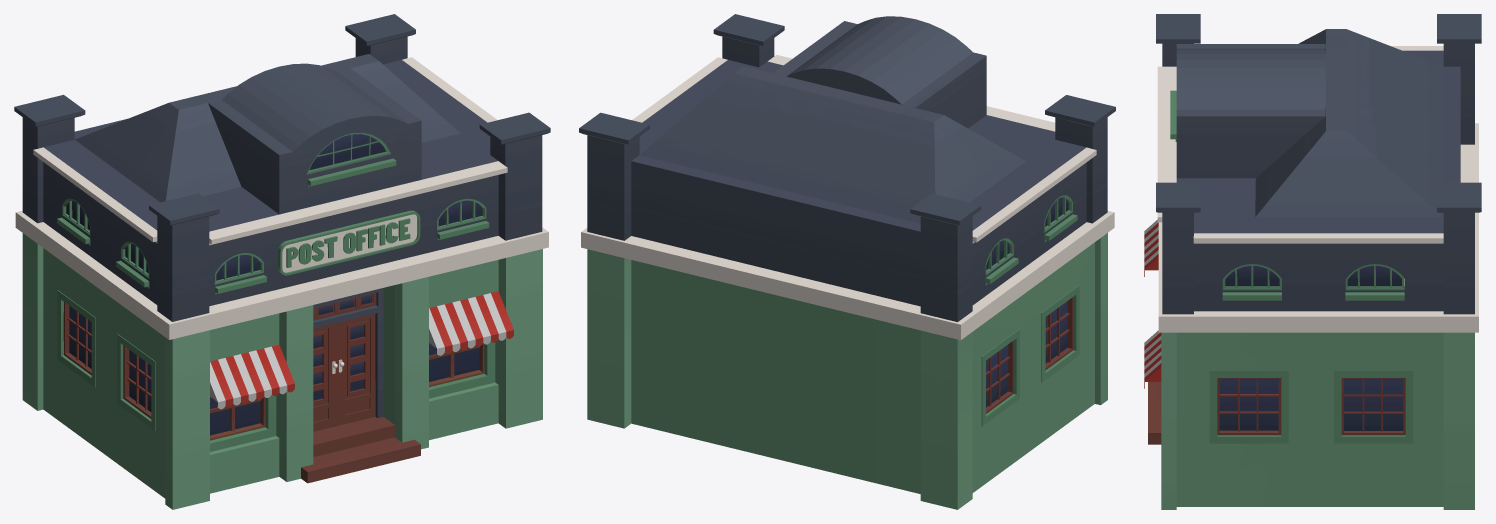
File: Post Office.fbx
3 views of the same model, side by side, from view 1: azimuth 30°, elevation 25°; view 2: azimuth 150°, elevation 25°; view 3: azimuth 270°, elevation 25° (orthographic). The views are drawn at different scales.
Visible parts, largest first — view 1: Post_Office; view 2: Post_Office; view 3: Post_Office.
Boxes of the visible parts, x1,y1,x2,y2 form: Post_Office: [14, 14, 550, 509]; Post_Office: [579, 14, 1115, 509]; Post_Office: [1144, 14, 1481, 509].
Size of the model in its own units: 307 by 262 by 226.
